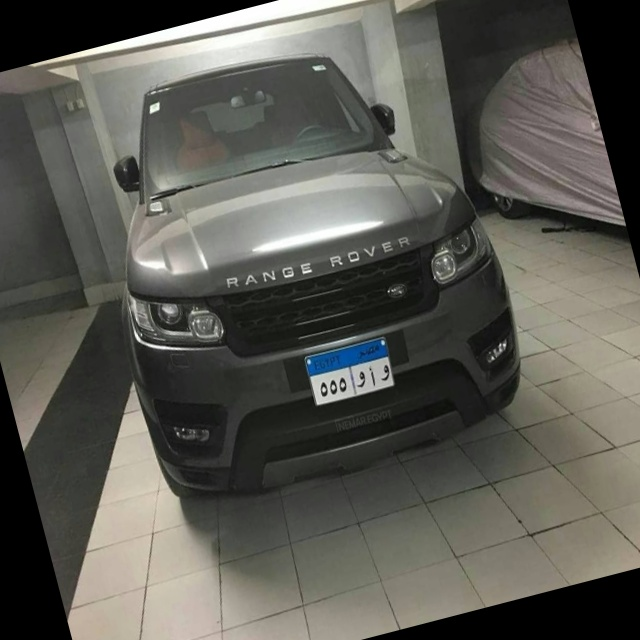License Plate: (299, 333, 400, 411)
